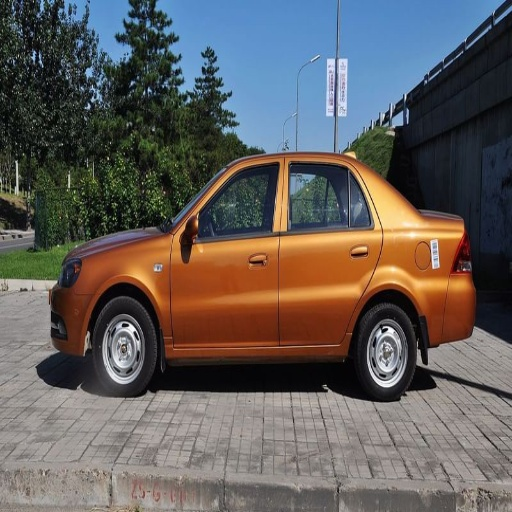back_left_door: (280, 156, 380, 346)
front_left_door: (171, 157, 284, 349)
